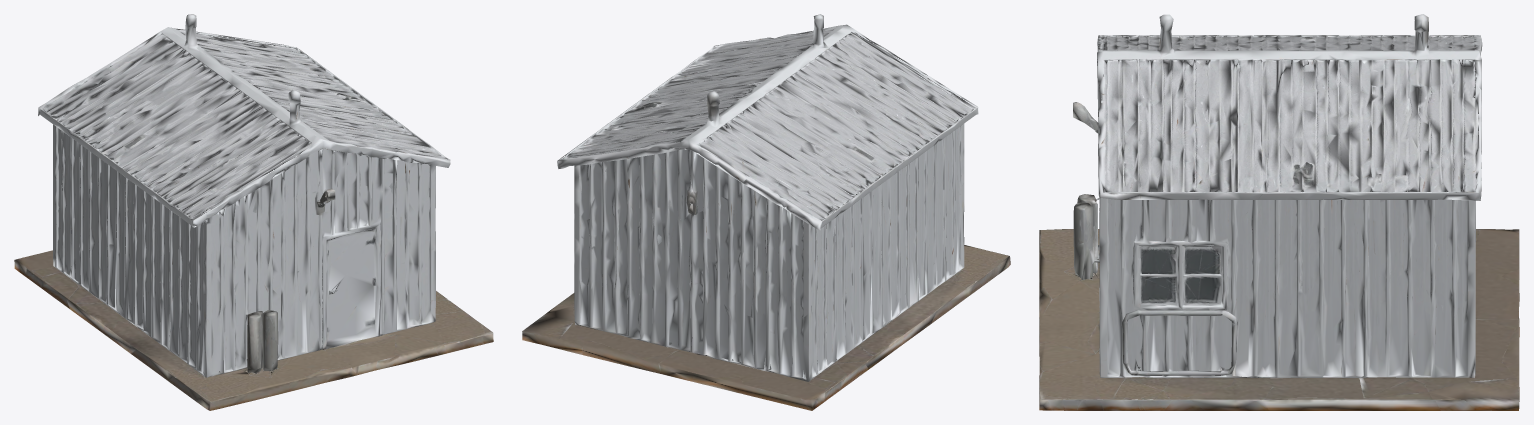
Rendered from milk-house.glb.
3 renders of one model, left to right at view 1: azimuth 30°, elevation 25°; view 2: azimuth 150°, elevation 25°; view 3: azimuth 270°, elevation 25°, orthographic. The views are drawn at different scales.
Size of the model in its own units: 1.6 by 1.35 by 1.9.
1 material, 1 textured.
